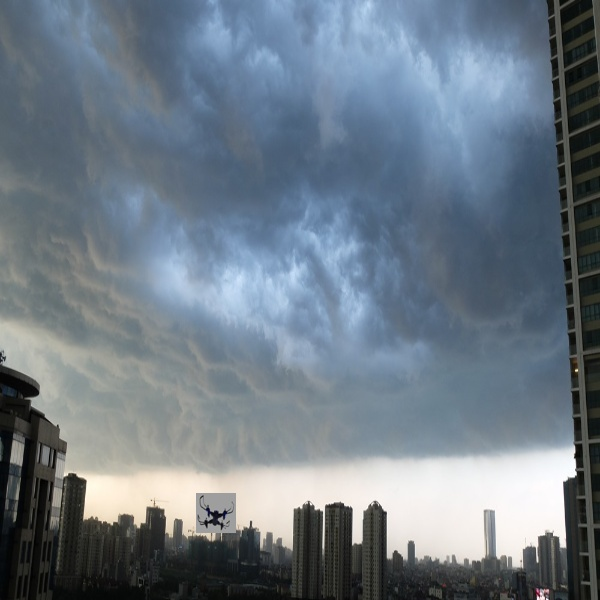drone: (195, 490, 236, 537)
